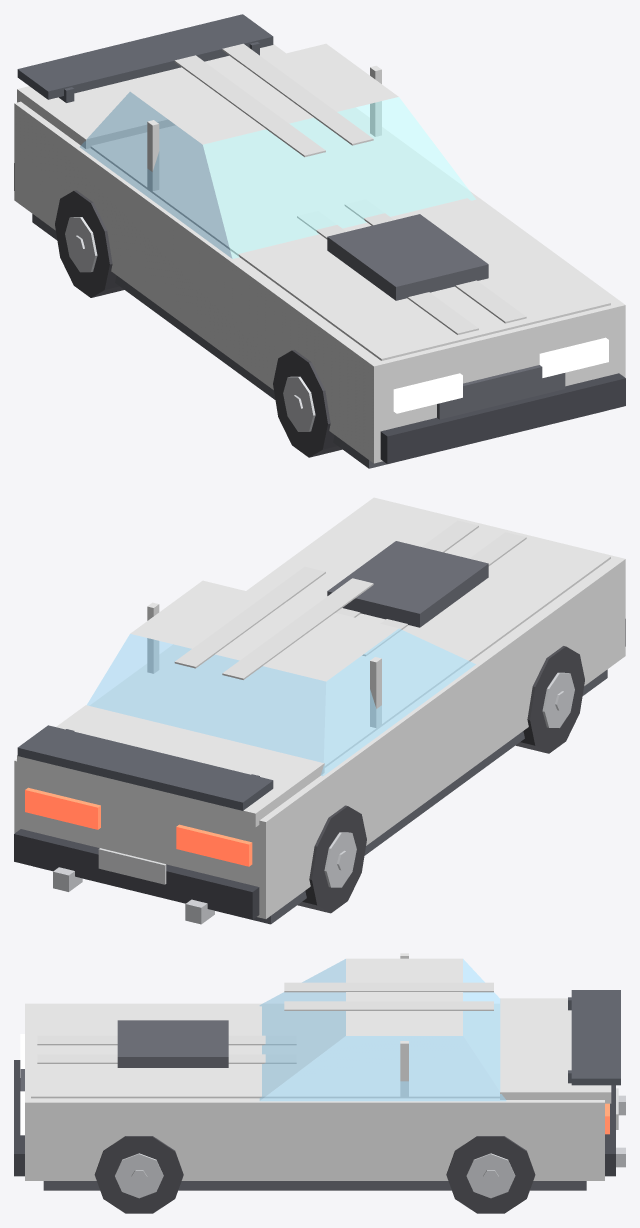
The model's file is muscle.glb.
3 renders of one model, top to bottom at view 1: azimuth 30°, elevation 25°; view 2: azimuth 150°, elevation 25°; view 3: azimuth 270°, elevation 25°, orthographic. The views are drawn at different scales.
Visible parts, largest first — view 1: muscle, wheel-fl, wheel-bl; view 2: muscle, wheel-bl, wheel-fl; view 3: muscle, wheel-br, wheel-fr.
Part boxes in pixels (x1=…): muscle: x1=14, y1=14, x2=625, y2=468; wheel-fl: x1=273, y1=350, x2=342, y2=457; wheel-bl: x1=55, y1=190, x2=124, y2=297; muscle: x1=14, y1=497, x2=625, y2=924; wheel-bl: x1=297, y1=805, x2=366, y2=913; wheel-fl: x1=516, y1=646, x2=584, y2=753; muscle: x1=14, y1=953, x2=625, y2=1190; wheel-br: x1=446, y1=1136, x2=535, y2=1213; wheel-fr: x1=94, y1=1136, x2=183, y2=1213.
Bounding box in the file's own units: 2 × 1.49 × 4.96.
